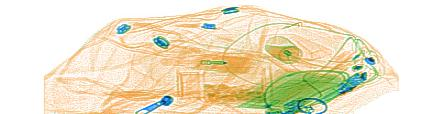plasticBottleWithaNozzle: (174, 50, 251, 75)
pressure: (262, 34, 303, 66)
